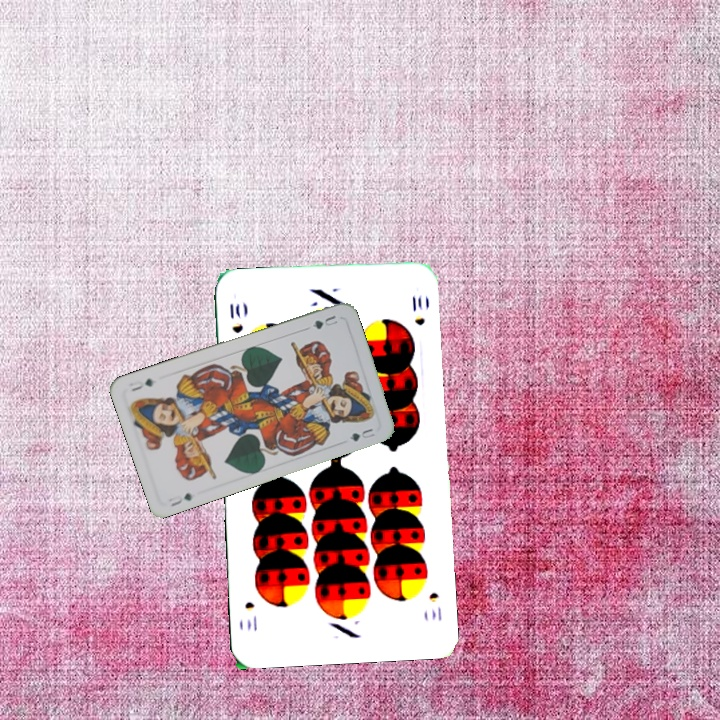GU: (308, 311, 340, 332), (164, 489, 196, 509)
S10: (226, 299, 245, 336), (425, 588, 444, 623)
